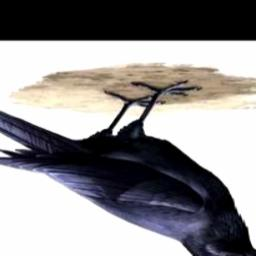Crow: (0, 77, 256, 256)
